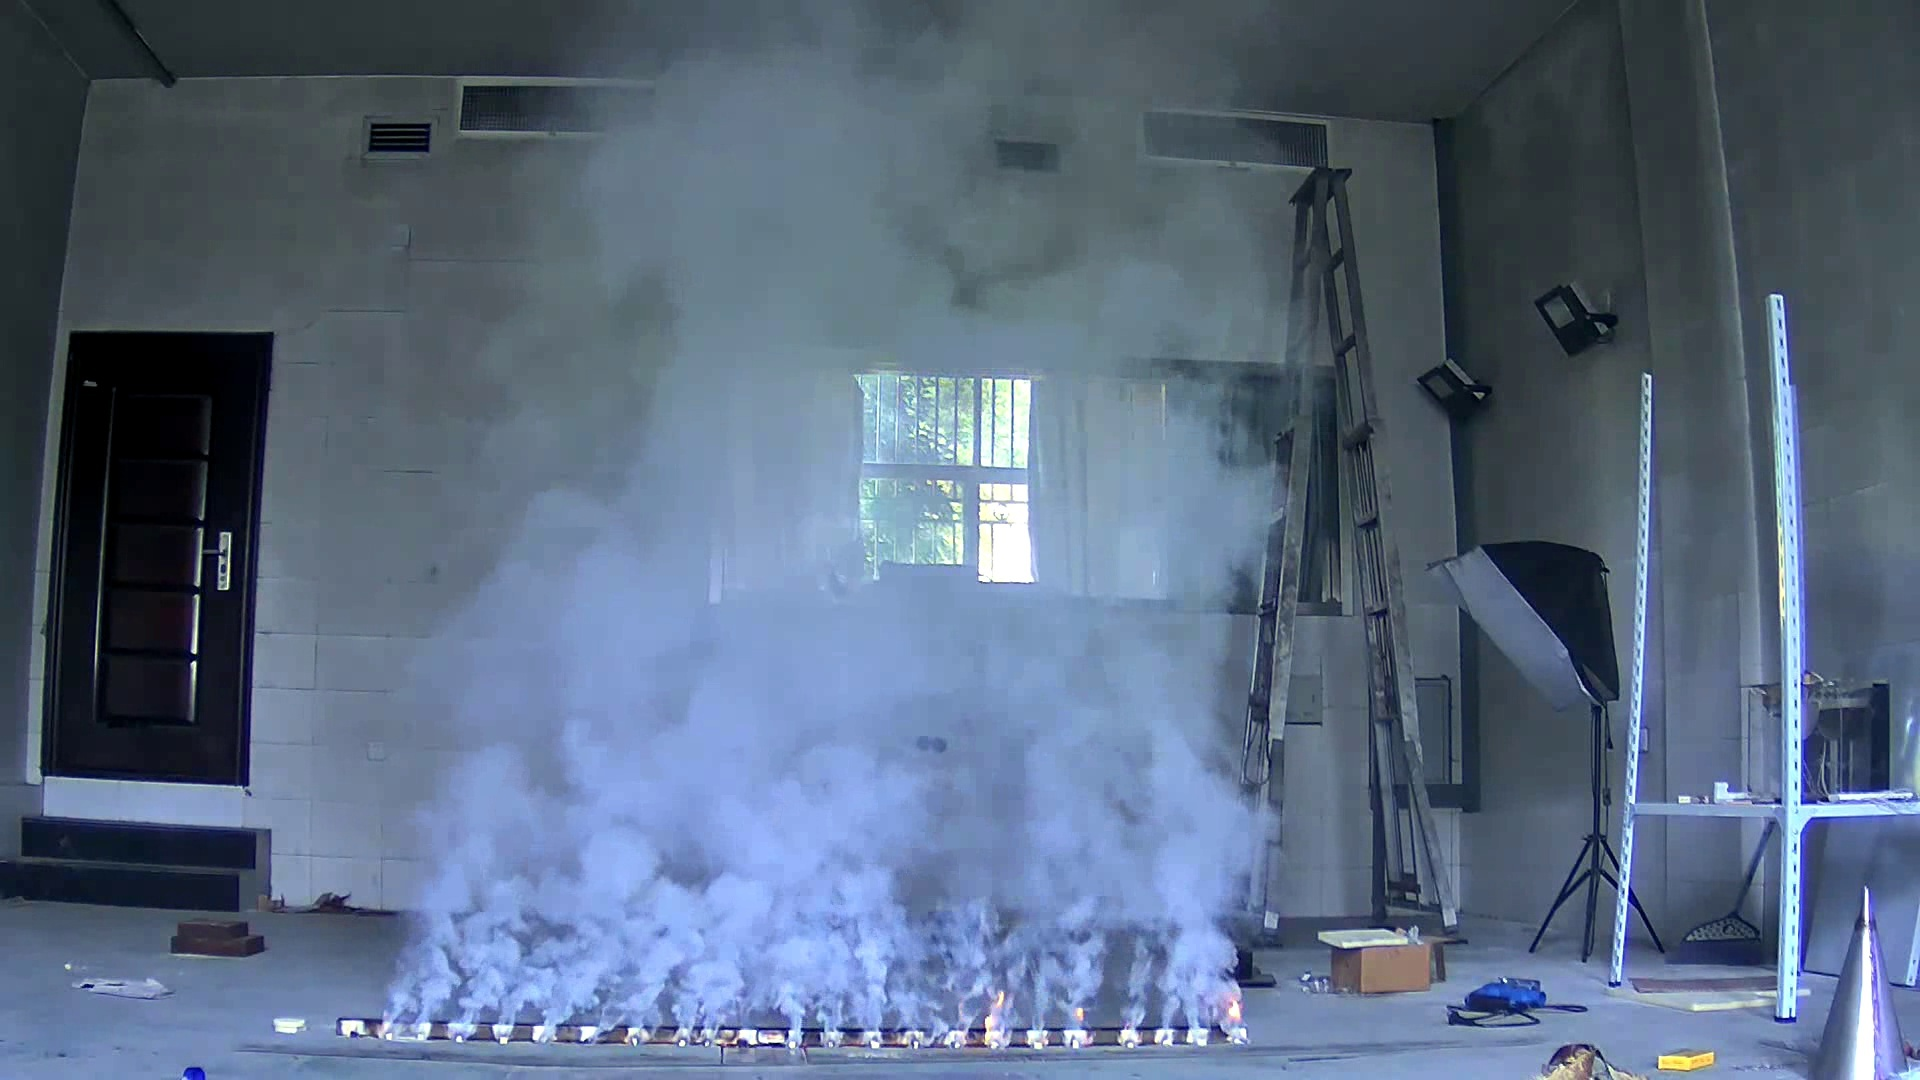smoke: (342, 262, 1308, 1018)
